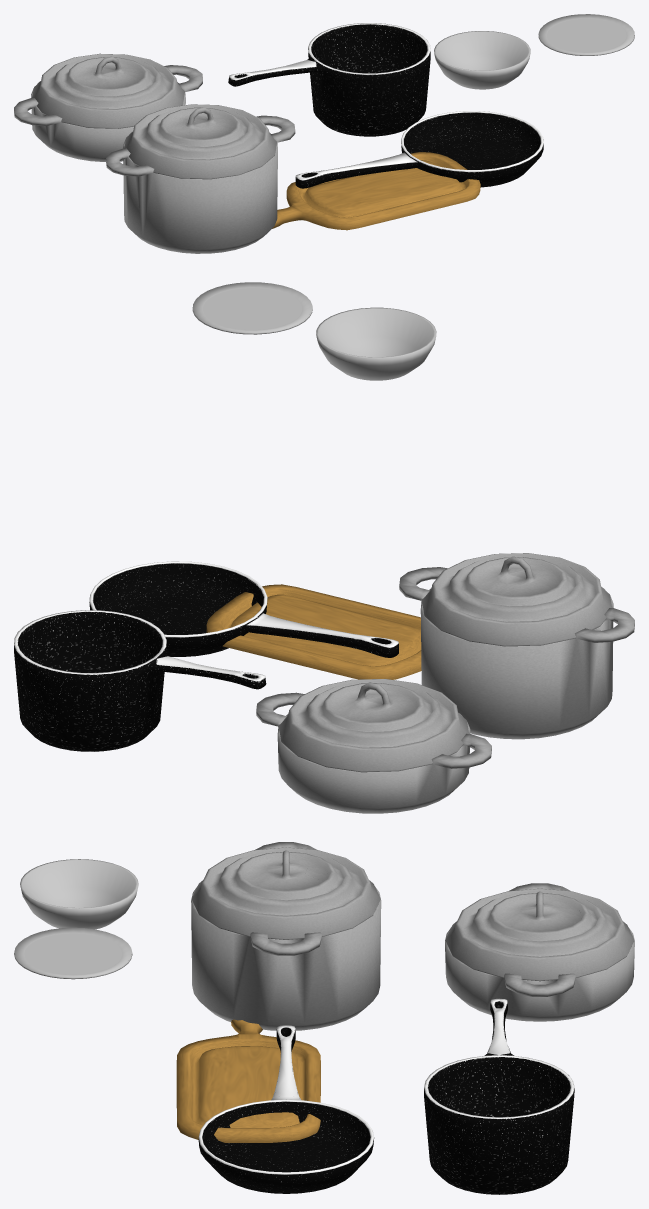
The model's file is cutting board.glb.
3 views of the same model, one above another, from view 1: azimuth 30°, elevation 25°; view 2: azimuth 150°, elevation 25°; view 3: azimuth 270°, elevation 25° (orthographic). The views are drawn at different scales.
Parts seen in each view (by area): view 1: pan, cookingpot, stove, cookingpotpot, cuttingboard, cookingpotpot.001, bowl, cookingpot.001, plate; view 2: pan, cookingpot, cookingpotpot, cookingpotpot.001, stove, cuttingboard, cookingpot.001, bowl, plate; view 3: pan, cookingpot, cookingpotpot, cookingpotpot.001, cuttingboard, stove, cookingpot.001, bowl, plate.
Part boxes in pixels (left/top/right/bottom): pan: left=228, top=23, right=430, bottom=136; cookingpot: left=106, top=115, right=295, bottom=253; stove: left=295, top=111, right=543, bottom=188; cookingpotpot: left=124, top=104, right=276, bottom=179; cuttingboard: left=272, top=152, right=480, bottom=230; cookingpotpot.001: left=32, top=53, right=184, bottom=128; bowl: left=434, top=31, right=530, bottom=89; cookingpot.001: left=14, top=65, right=202, bottom=161; plate: left=538, top=14, right=634, bottom=55; pan: left=14, top=610, right=266, bottom=751; cookingpot: left=399, top=567, right=634, bottom=739; cookingpotpot: left=422, top=553, right=611, bottom=646; cookingpotpot.001: left=278, top=679, right=468, bottom=772; stove: left=89, top=561, right=398, bottom=657; cuttingboard: left=206, top=584, right=421, bottom=679; cookingpot.001: left=256, top=692, right=491, bottom=813; bowl: left=316, top=307, right=436, bottom=380; plate: left=192, top=282, right=312, bottom=334; pan: left=424, top=998, right=574, bottom=1194; cookingpot: left=191, top=842, right=381, bottom=1030; cookingpotpot: left=191, top=847, right=380, bottom=939; cookingpotpot.001: left=445, top=888, right=634, bottom=981; cuttingboard: left=176, top=1019, right=320, bottom=1142; stove: left=198, top=1025, right=374, bottom=1193; cookingpot.001: left=445, top=883, right=634, bottom=1021; bowl: left=20, top=859, right=138, bottom=929; plate: left=14, top=927, right=132, bottom=979.
Bounding box in the file's own units: 12.34 × 5.57 × 12.54.
Materials: 6 (6 with a texture image).
